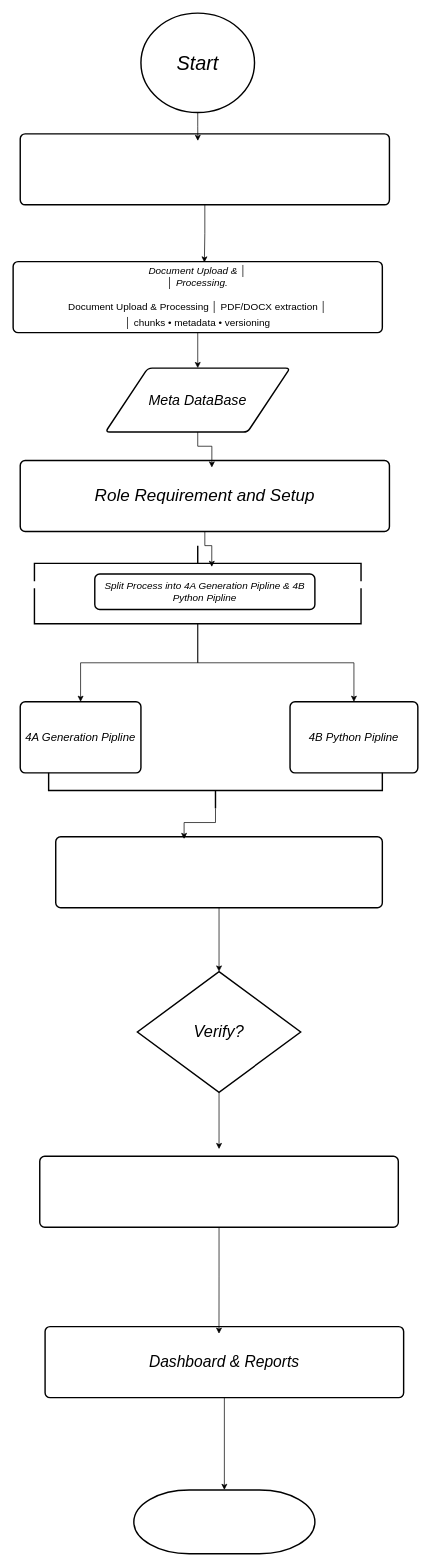
This 430x1566 diagram has some shape labels left out. Each missing label, with the centre of its shape:
"Company Knowledge │ │ Sources" belongs at (x=204, y=169).
"End" belongs at (x=224, y=1521).
"Final personalized Onboarding Plan" belongs at (x=219, y=1191).
"Result Comparison" belongs at (x=219, y=872).
